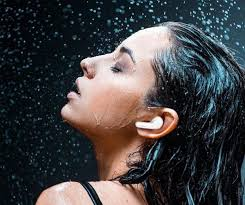earphone: (135, 108, 179, 139)
